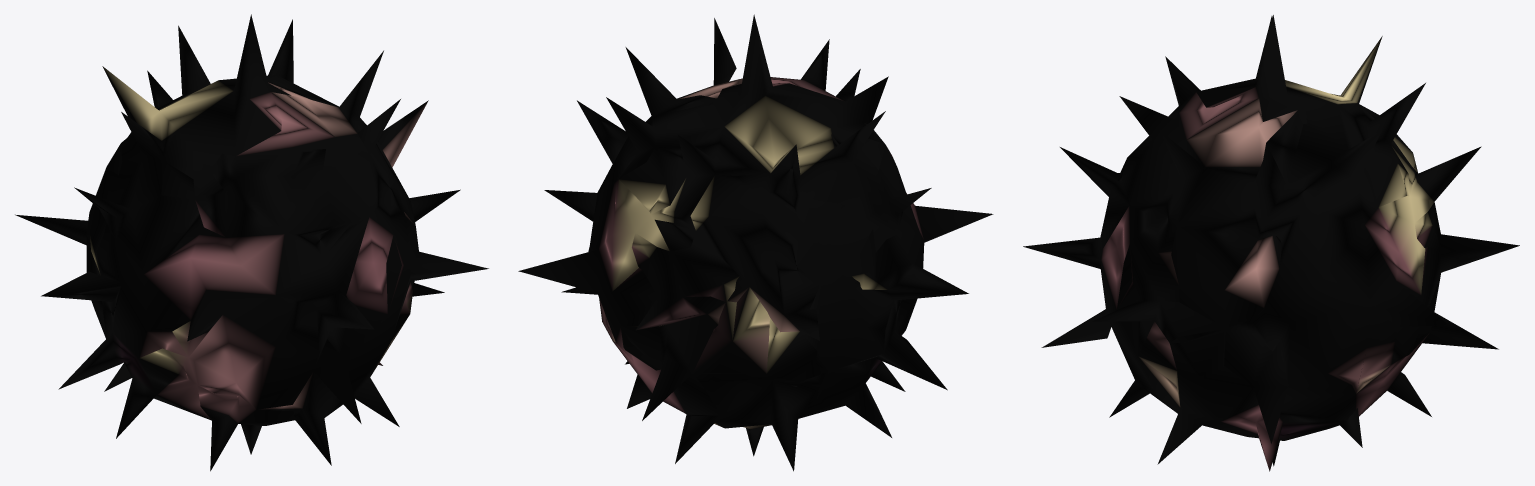
File: gen3d-spiked-ball-lod1.glb
The picture shows the model from 3 angles, left to right: view 1: azimuth 30°, elevation 25°; view 2: azimuth 150°, elevation 25°; view 3: azimuth 270°, elevation 25°; orthographic projection. The views are drawn at different scales.
Visible parts, largest first — view 1: part_0; view 2: part_0; view 3: part_0.
Part boxes in pixels (box(x1,y1,x2,y2)): part_0: box(15, 14, 488, 471); part_0: box(518, 14, 993, 471); part_0: box(1023, 15, 1519, 471).
Size of the model in its own units: 0.9985 by 0.9969 by 0.9942.
